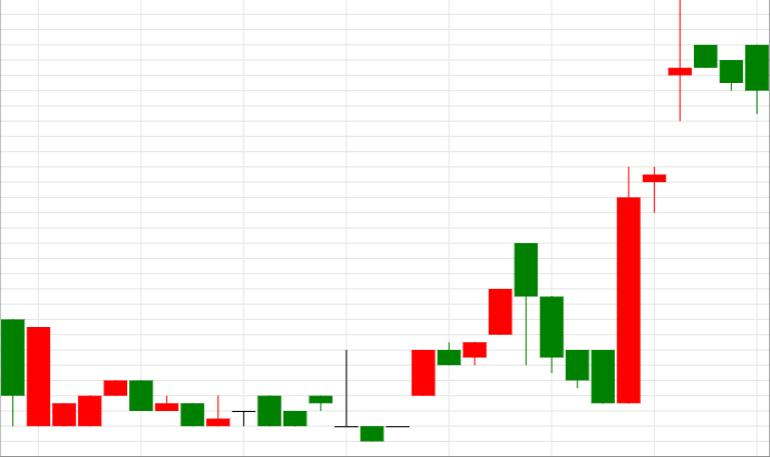bullish_engulfing_rise: (514, 166, 641, 404)
